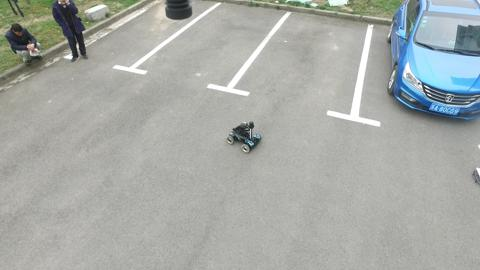car: (378, 3, 467, 113)
chariot: (229, 115, 259, 160)
